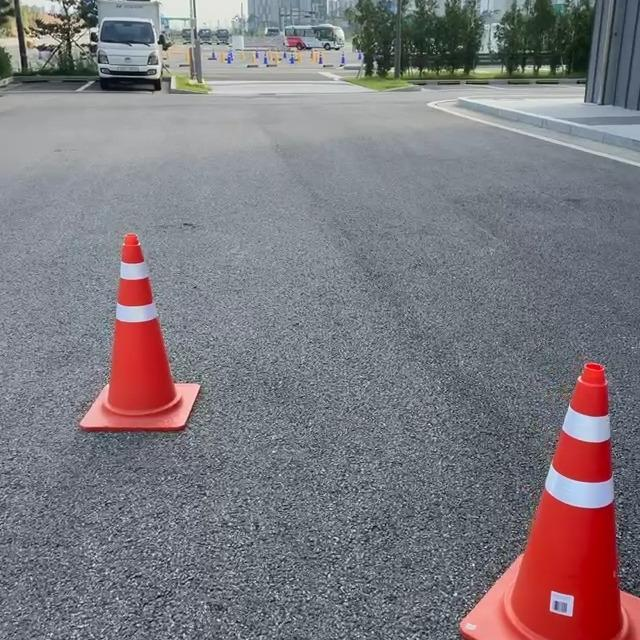fallen_object: (441, 307, 640, 639), (82, 212, 254, 458)
